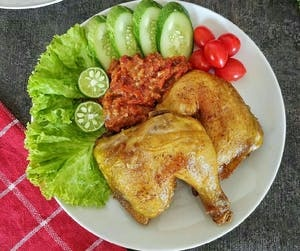ayam_goreng: (86, 112, 234, 236)
